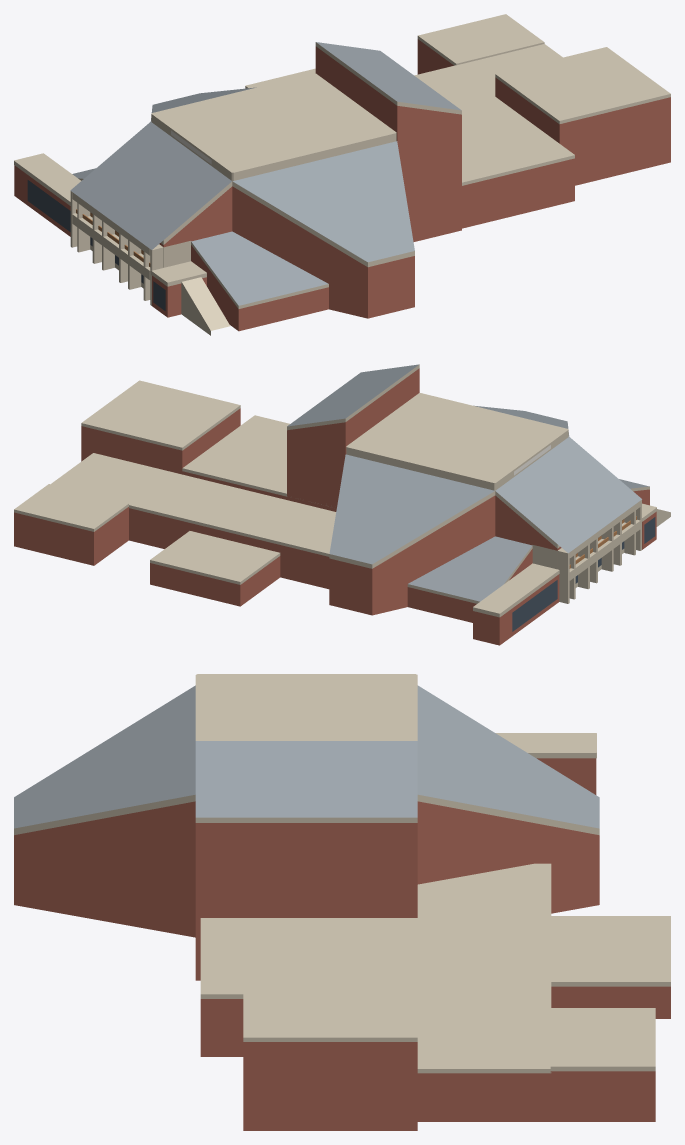
Rendered from nash-grand-ole-opry-house.glb.
The picture shows the model from 3 angles, top to bottom: view 1: azimuth 30°, elevation 25°; view 2: azimuth 150°, elevation 25°; view 3: azimuth 270°, elevation 25°; orthographic projection. The views are drawn at different scales.
Visible parts, largest first — view 1: Grand Ole Opry House; view 2: Grand Ole Opry House; view 3: Grand Ole Opry House.
Part boxes in pixels (x1,y1,x2,y2): Grand Ole Opry House: (14, 14, 670, 335); Grand Ole Opry House: (14, 364, 670, 645); Grand Ole Opry House: (14, 674, 670, 1130).
Bounding box in the file's own units: 137 × 35.2 × 107.
